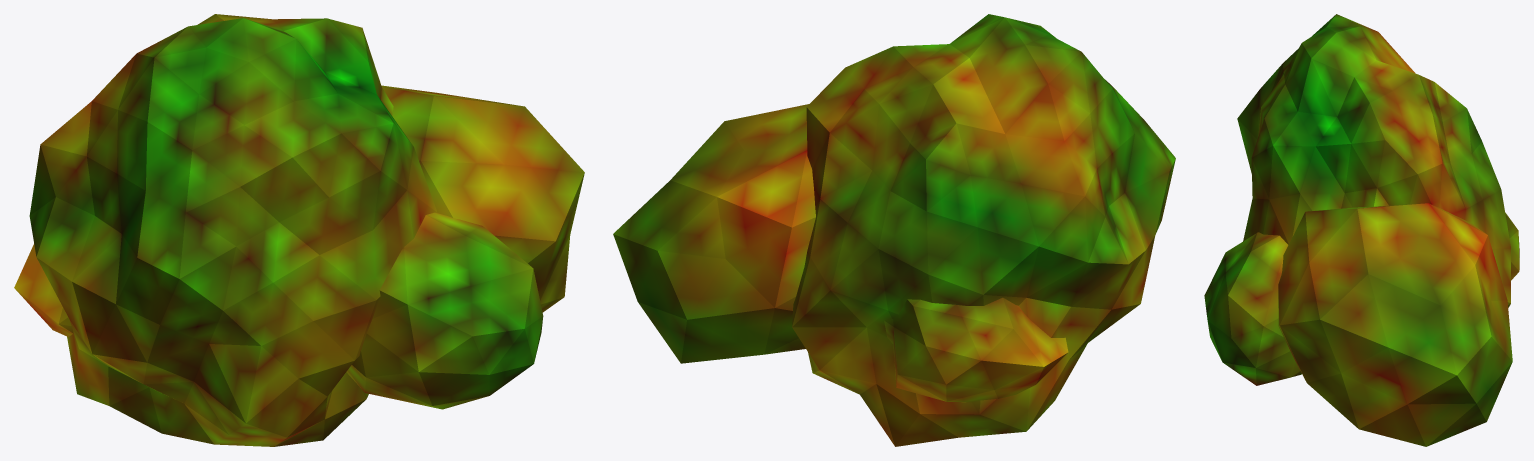
Rendered from 大型金矿_01_尖脊.fbx.
3 renders of one model, left to right at view 1: azimuth 30°, elevation 25°; view 2: azimuth 150°, elevation 25°; view 3: azimuth 270°, elevation 25°, orthographic. The views are drawn at different scales.
Visible parts, largest first — view 1: GoldOre_Large_01; view 2: GoldOre_Large_01; view 3: GoldOre_Large_01.
Boxes of the visible parts, x1,y1,x2,y2 form: GoldOre_Large_01: (14, 14, 584, 446); GoldOre_Large_01: (613, 14, 1175, 446); GoldOre_Large_01: (1204, 14, 1519, 446).
Bounding box in the file's own units: 1.55 × 1.2 × 1.05.
